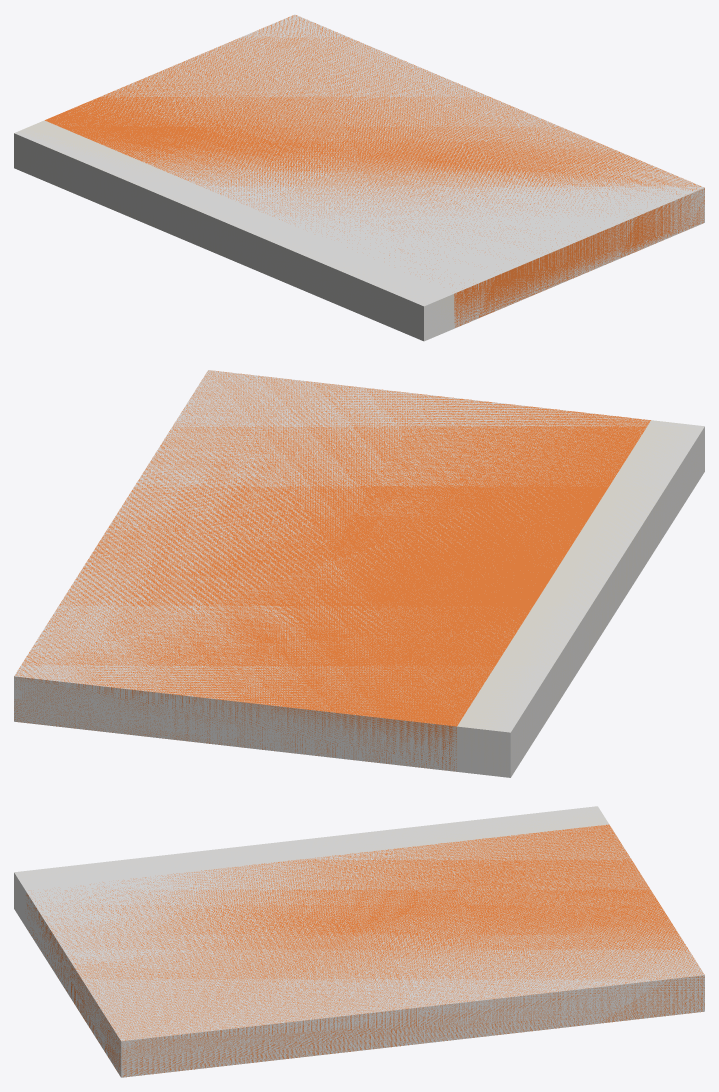
The model's file is mdl_ra3_kuwarerno_cuaderno.fbx.
The picture shows the model from 3 angles, top to bottom: view 1: azimuth 30°, elevation 25°; view 2: azimuth 150°, elevation 25°; view 3: azimuth 270°, elevation 25°; orthographic projection. The views are drawn at different scales.
Visible parts, largest first — view 1: COL_Kuwarerno_Cuaderno, SM_Kuwarerno_Cuaderno; view 2: SM_Kuwarerno_Cuaderno, COL_Kuwarerno_Cuaderno; view 3: COL_Kuwarerno_Cuaderno, SM_Kuwarerno_Cuaderno.
Boxes of the visible parts, x1,y1,x2,y2 form: COL_Kuwarerno_Cuaderno: (14, 14, 704, 341); SM_Kuwarerno_Cuaderno: (14, 15, 704, 340); SM_Kuwarerno_Cuaderno: (14, 370, 704, 777); COL_Kuwarerno_Cuaderno: (14, 370, 704, 777); COL_Kuwarerno_Cuaderno: (14, 806, 704, 1077); SM_Kuwarerno_Cuaderno: (14, 806, 704, 1077).
Bounding box in the file's own units: 24.86 × 1.8 × 30.87.
